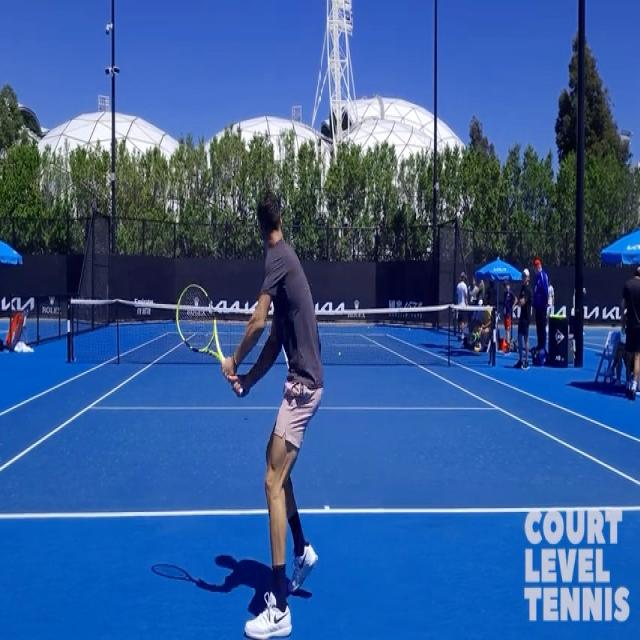backhand-ready: (180, 182, 327, 640)
